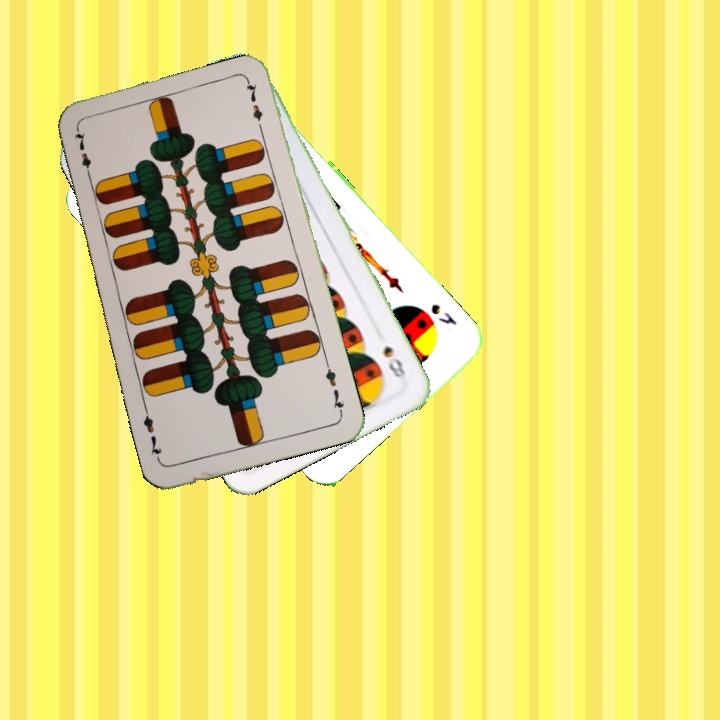E7: (321, 359, 346, 417), (70, 126, 95, 184)
S8: (379, 342, 410, 384)
SK: (427, 299, 460, 328)
